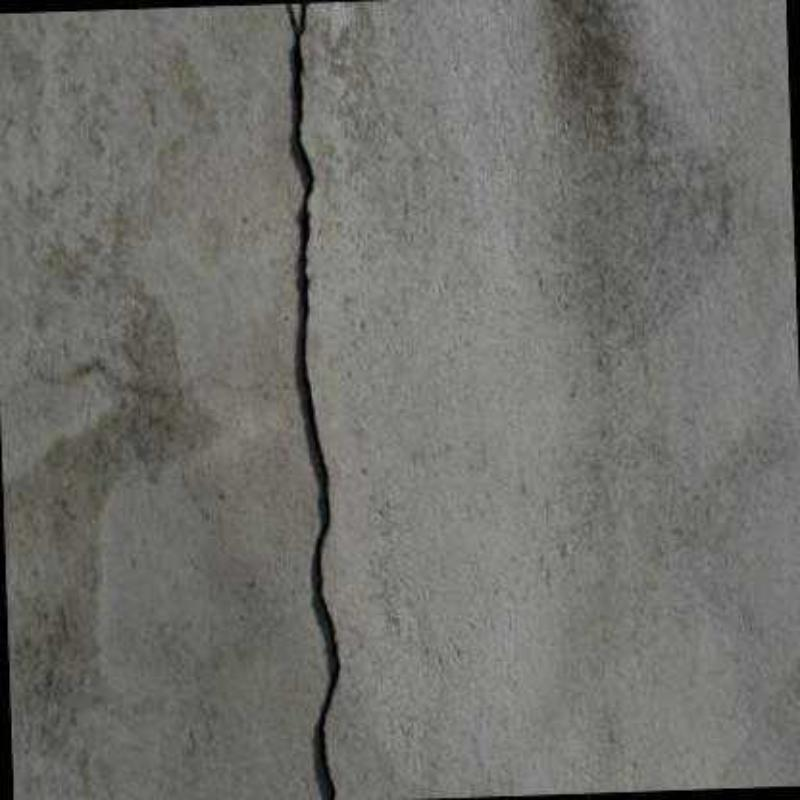pothole: (291, 3, 343, 800)
